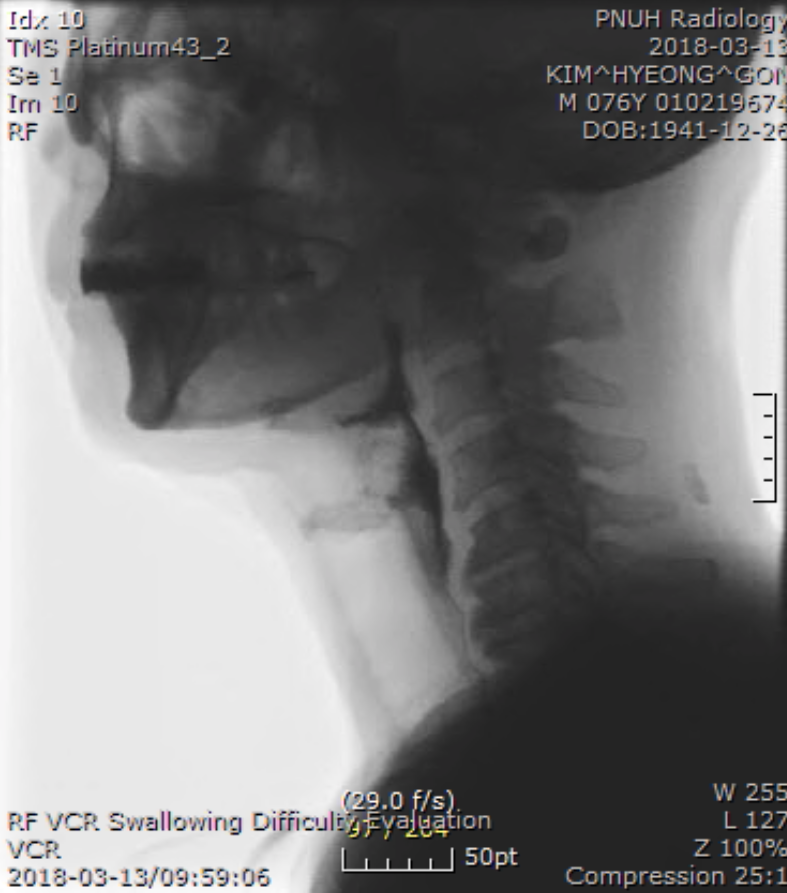dros: (406, 464, 466, 560)
food: (345, 405, 447, 537)
uros: (320, 364, 408, 436)
